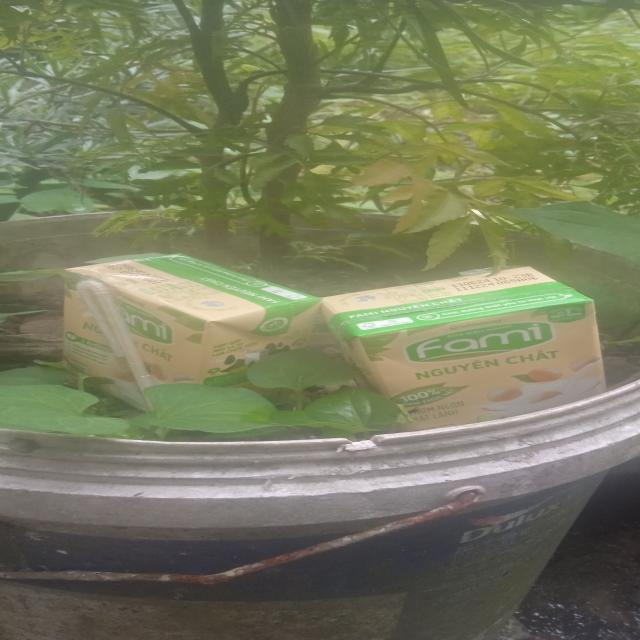Fami: (318, 266, 613, 434), (62, 253, 324, 419)
